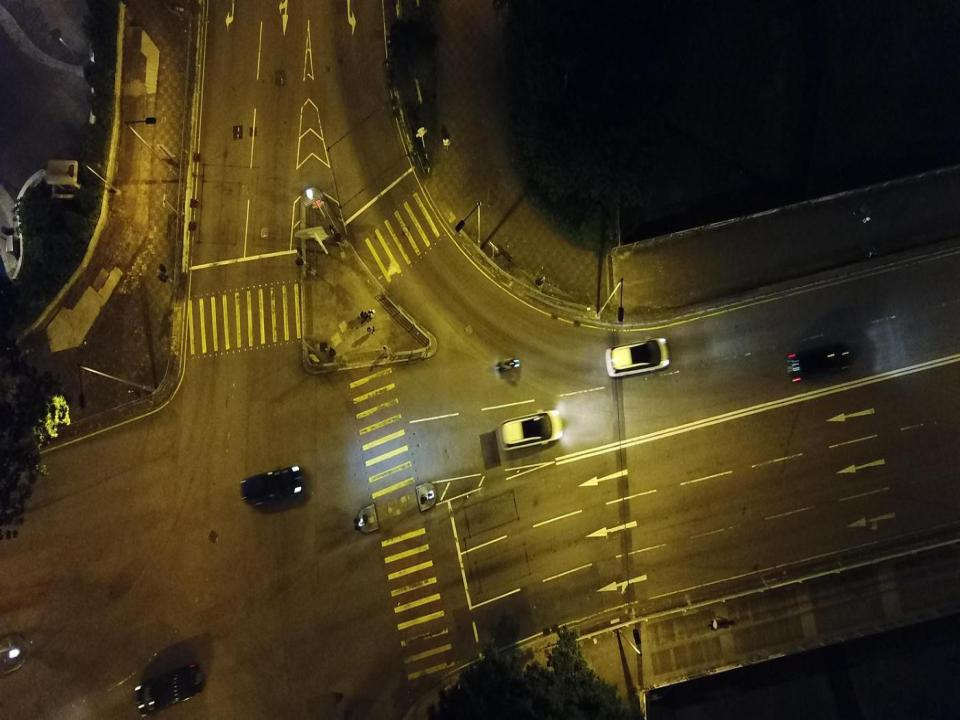car: (134, 662, 205, 718), (605, 337, 672, 381), (240, 463, 304, 507), (498, 408, 564, 450), (786, 343, 850, 383)
